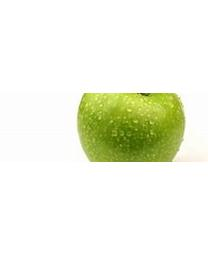apple: (76, 93, 185, 162)
